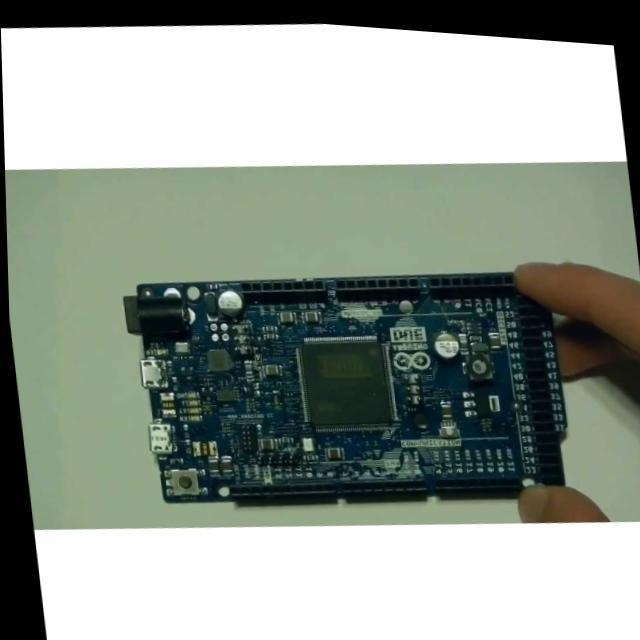Arduino-Due: (126, 274, 567, 504)
